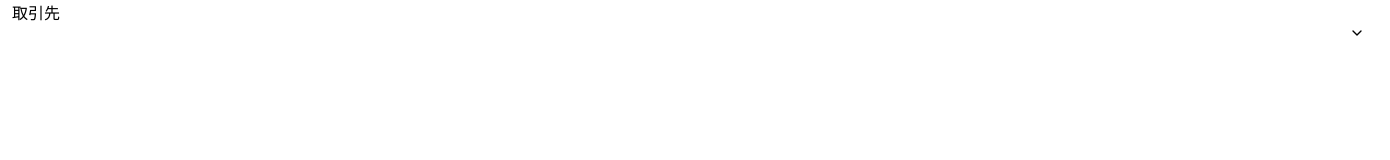
Test case: Combobox › clears text that matches nothing when leaving without a choice
The image size is (1390, 160).
Type "ぞぞ" into the dropdown labelled "取引先" at x=695, y=33, box [12,24,1378,42]
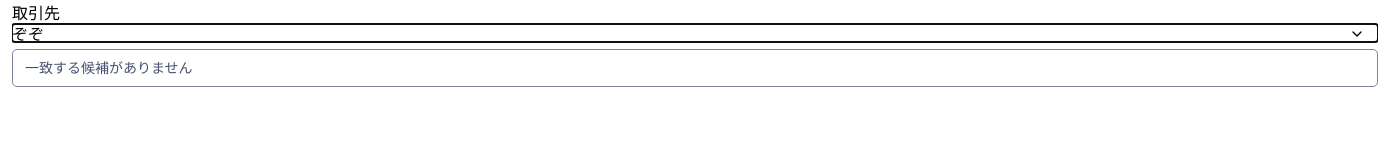
Press Tab
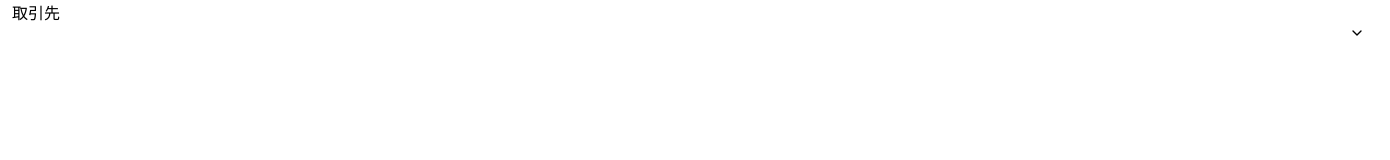
Check: the dropdown labelled "取引先" is empty, box [12,24,1378,42]
